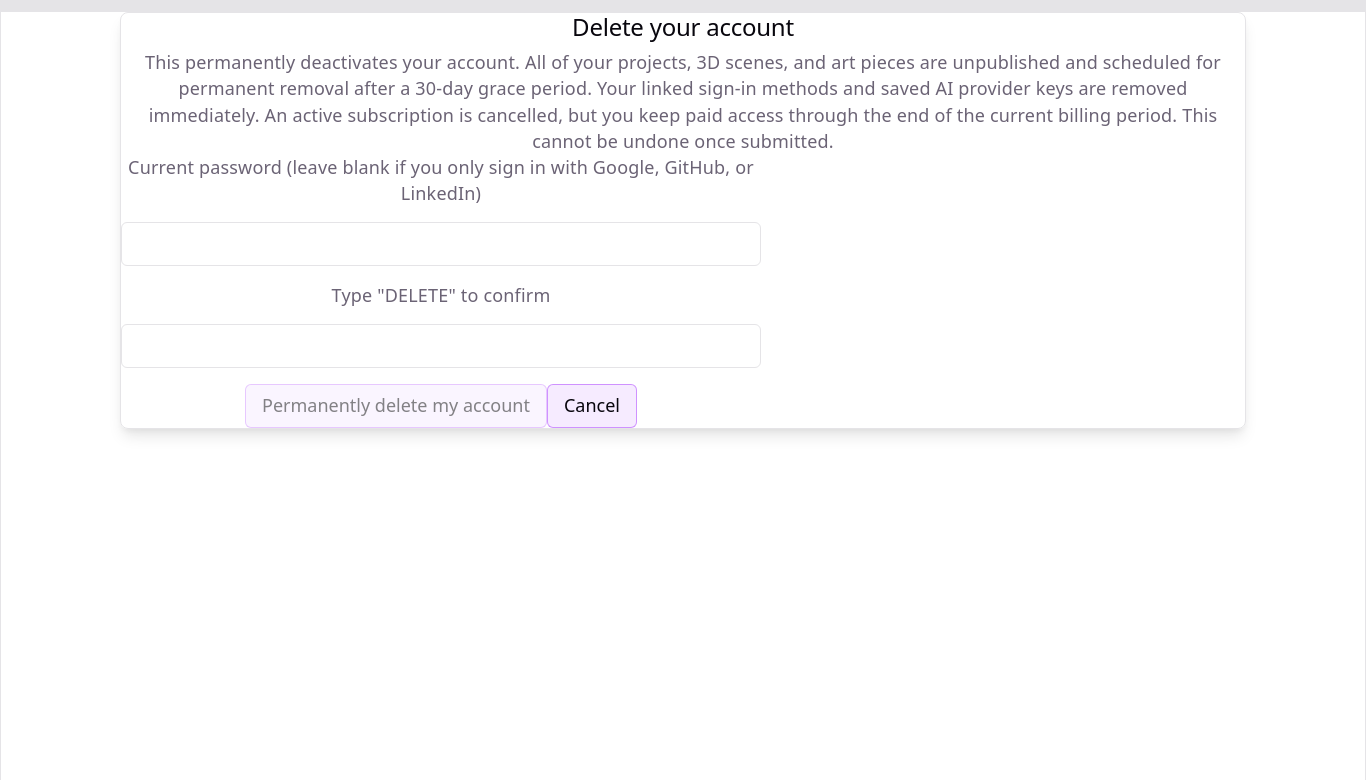
Test: AccountDeletion › submits the password and confirmation and shows a reauthentication error
This screenshot has width=1366, height=780.
Type "wrong-password" into the password field labelled "Current password" at (441, 244), box [121,222,761,266]
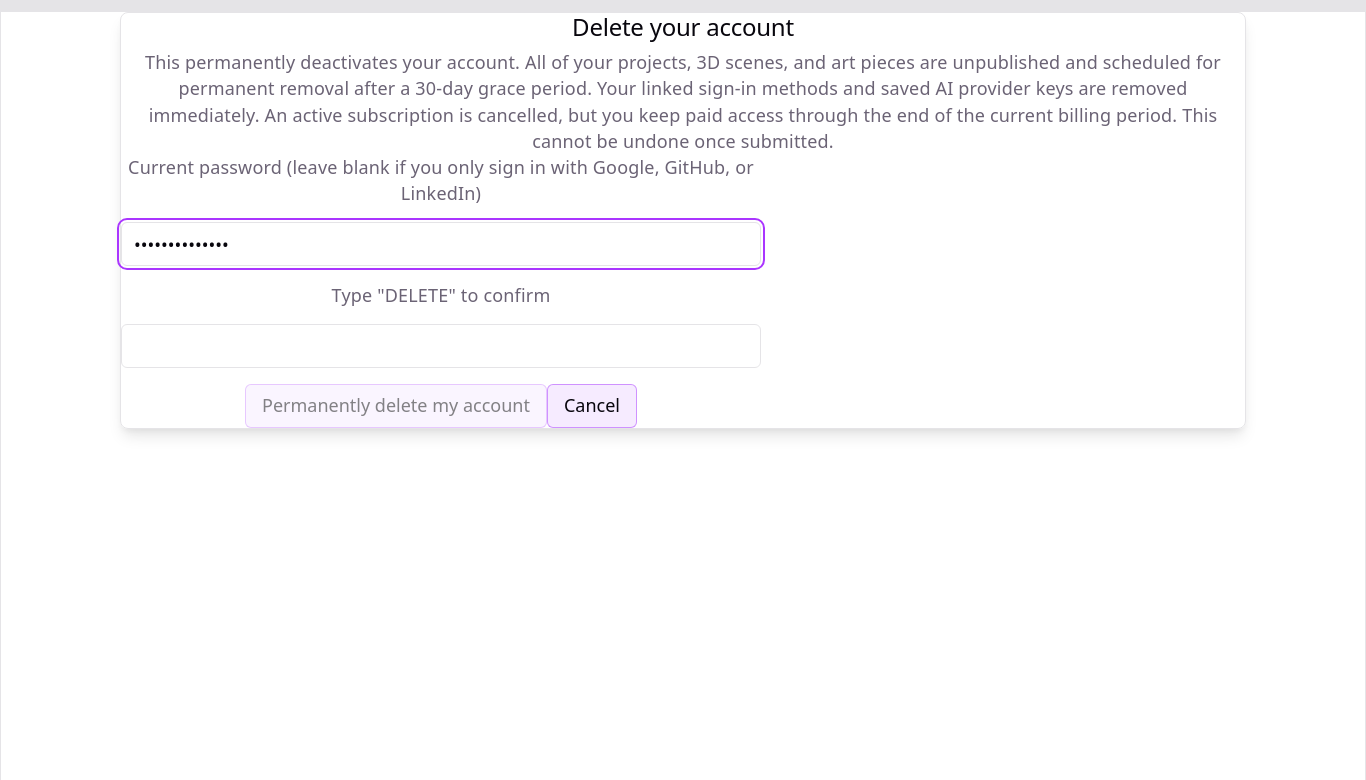
Type "DELETE" into the field labelled "Type \"DELETE\" to confirm" at (441, 346), box [121,324,761,368]
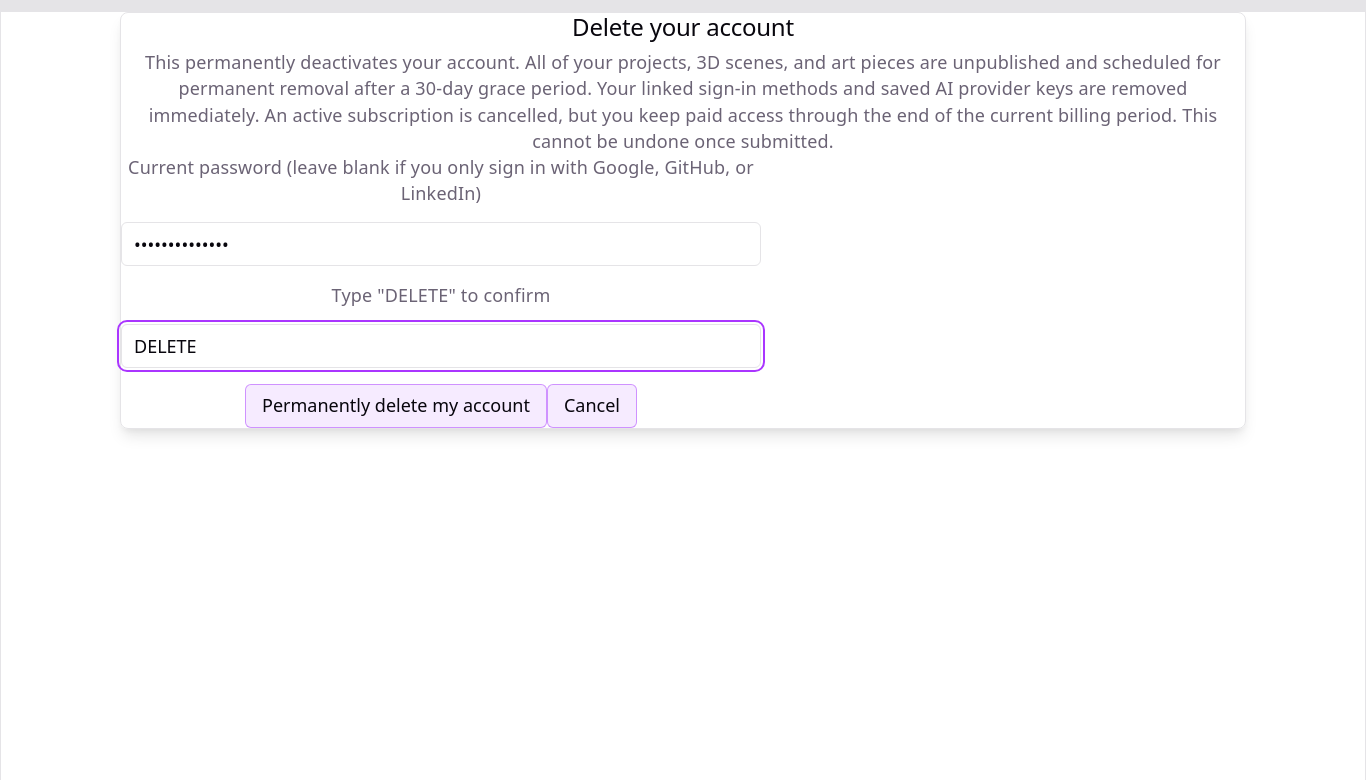
Click the button with test id "account-deletion-submit" at (396, 406), box [245,384,547,428]
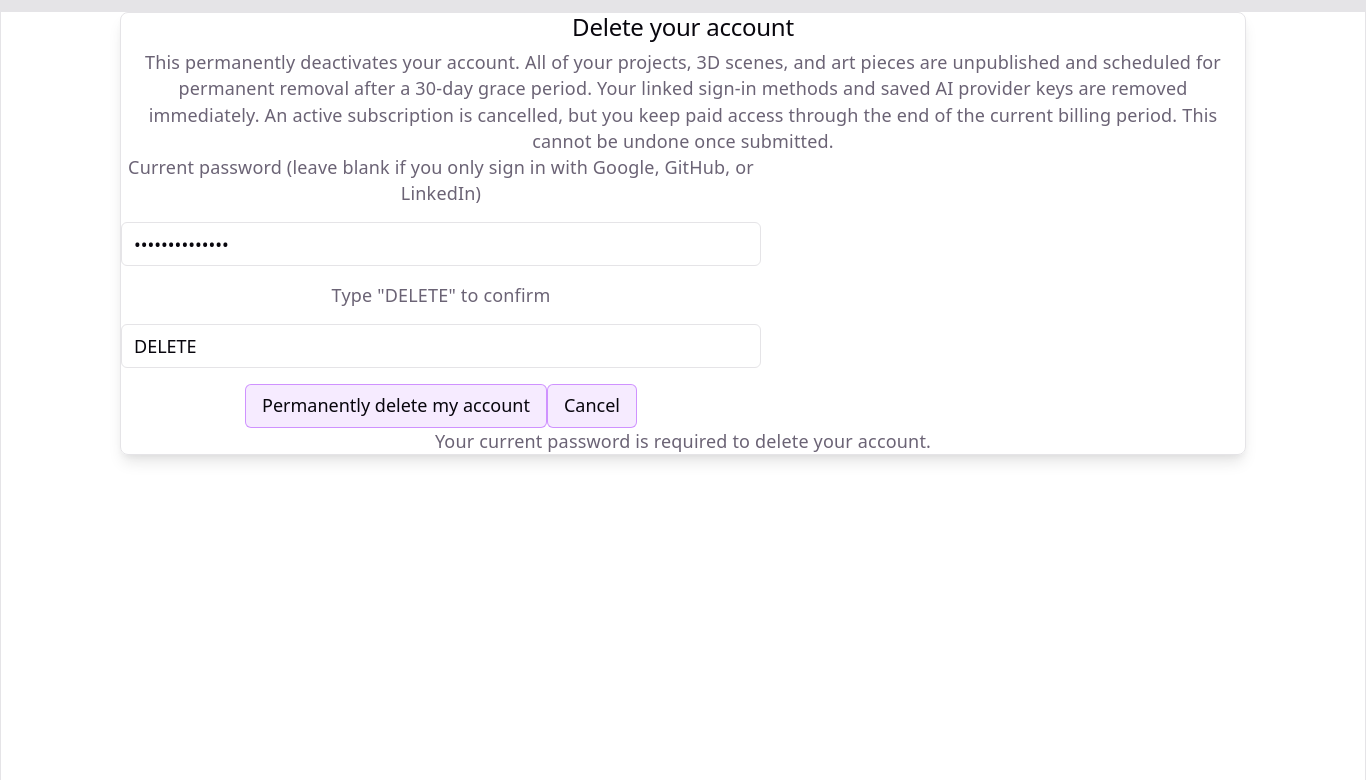
Result: the message with test id "account-deletion-error" shows "current password is required" at [435,429,931,453]
